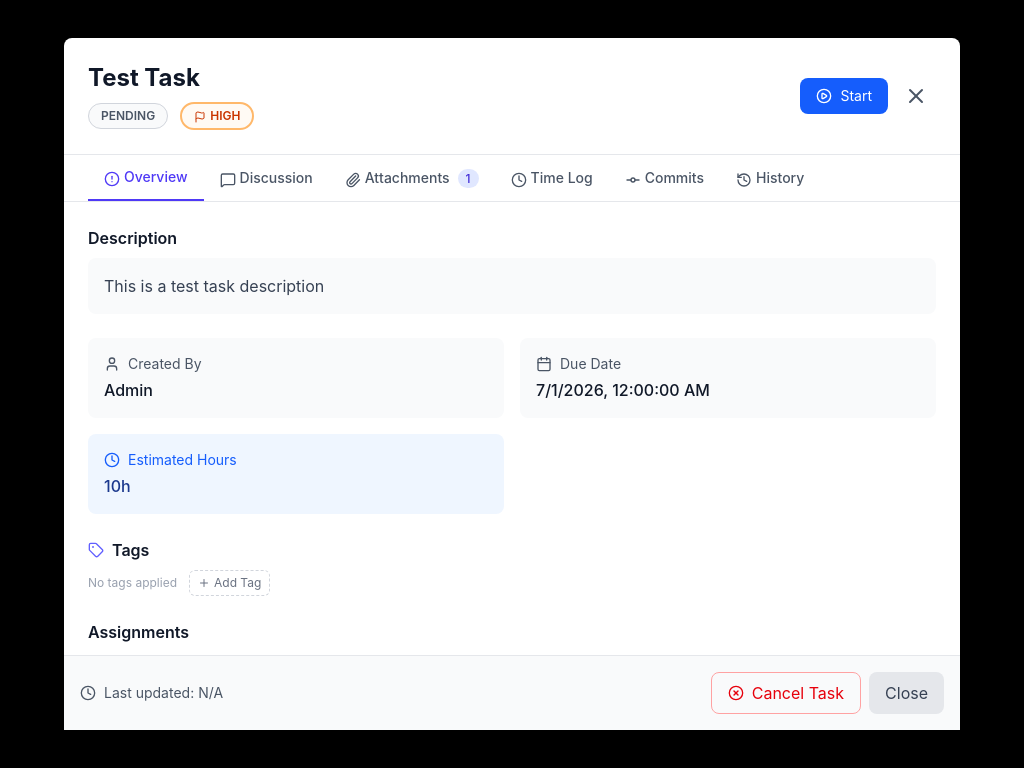
Test: TaskDetailsModal extended coverage › shows Attachments tab content
Click the button "Attachments1": point(412, 178) [329,155,495,201]
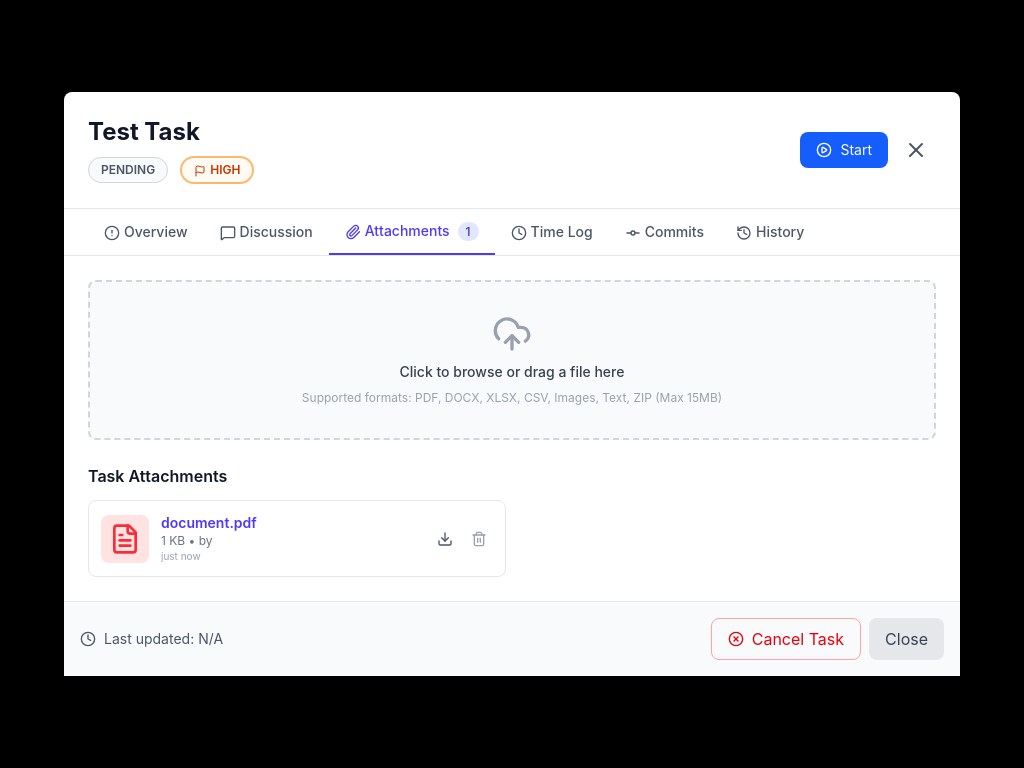
Check: the text "document.pdf" is shown, box [161,514,257,531]
